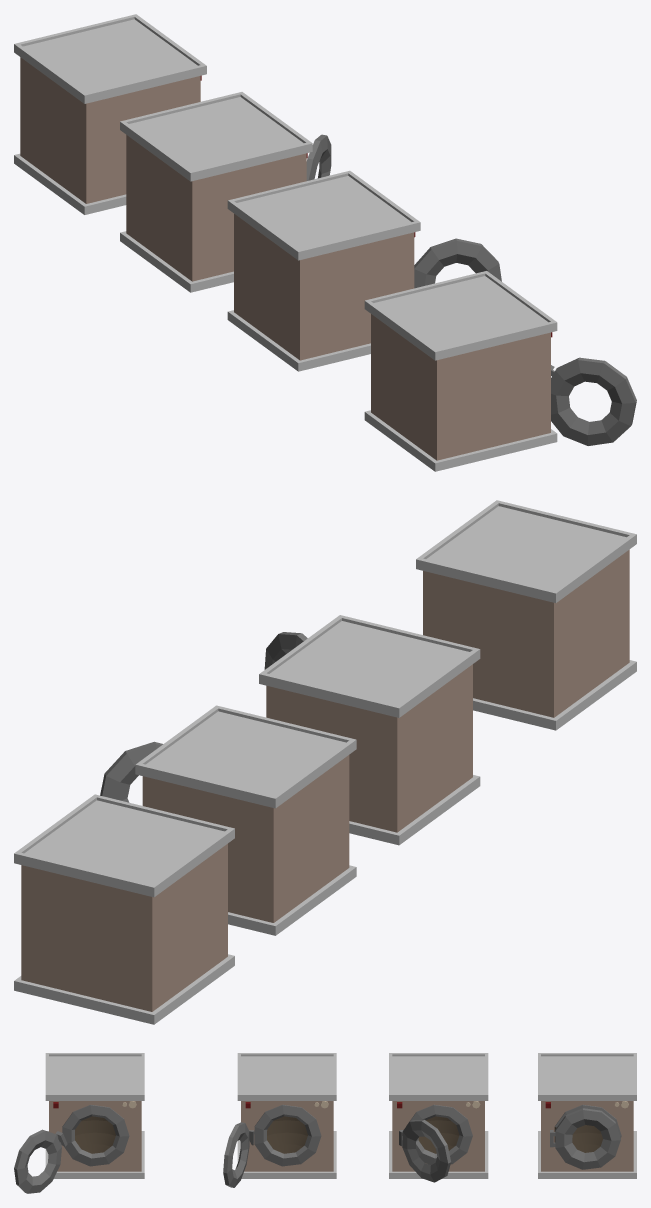
Rendered from washers.fbx.
The picture shows the model from 3 angles, top to bottom: view 1: azimuth 30°, elevation 25°; view 2: azimuth 150°, elevation 25°; view 3: azimuth 270°, elevation 25°; orthographic projection. The views are drawn at different scales.
Visible parts, largest first — view 1: pCube13, pCube14, pTorus7, pCube15; view 2: pCube15, pCube13, pTorus7, pCube14; view 3: pCube13, pCube14, pTorus7, pCube15.
Part boxes in pixels (left/top/right/bottom): pCube13: left=364, top=271, right=636, bottom=471; pCube14: left=227, top=170, right=501, bottom=371; pTorus7: left=120, top=92, right=331, bottom=292; pCube15: left=14, top=14, right=206, bottom=214; pCube15: left=14, top=794, right=234, bottom=1024; pCube13: left=416, top=500, right=636, bottom=730; pTorus7: left=100, top=705, right=356, bottom=935; pCube14: left=259, top=615, right=480, bottom=845; pCube13: left=14, top=1053, right=144, bottom=1193; pCube14: left=223, top=1053, right=336, bottom=1187; pTorus7: left=389, top=1053, right=488, bottom=1182; pCube15: left=538, top=1053, right=636, bottom=1178.
Size of the model in its own units: 1.71 by 1.05 by 6.73.
